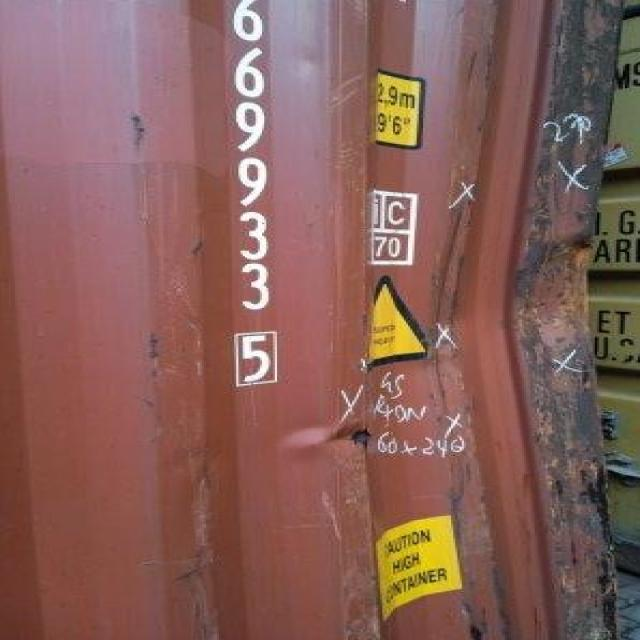dent: (490, 1, 640, 640), (307, 162, 512, 533)
